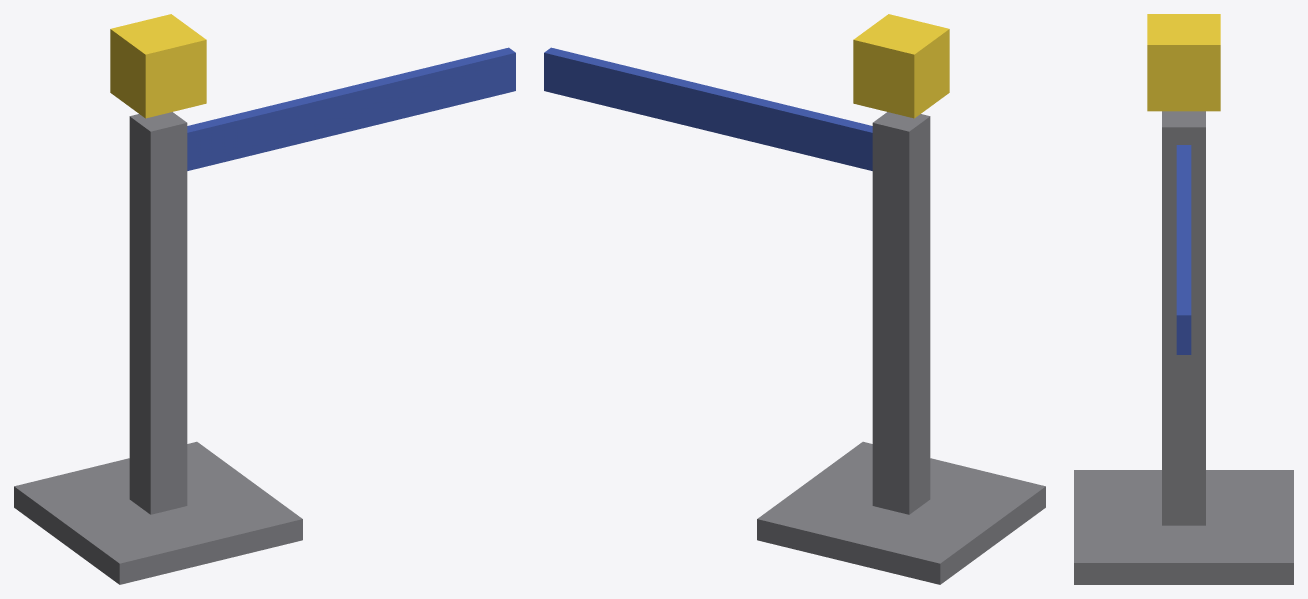
The model's file is AED_Cordon.gltf.
3 views of the same model, side by side, from view 1: azimuth 30°, elevation 25°; view 2: azimuth 150°, elevation 25°; view 3: azimuth 270°, elevation 25° (orthographic). The views are drawn at different scales.
Parts seen in each view (by area): view 1: AED_Cordon; view 2: AED_Cordon; view 3: AED_Cordon.
Part boxes in pixels (bbox=[...]): AED_Cordon: bbox=[14, 14, 515, 584]; AED_Cordon: bbox=[544, 14, 1045, 584]; AED_Cordon: bbox=[1074, 14, 1293, 584].
Bounding box in the file's own units: 1.09 × 1.15 × 0.45.
